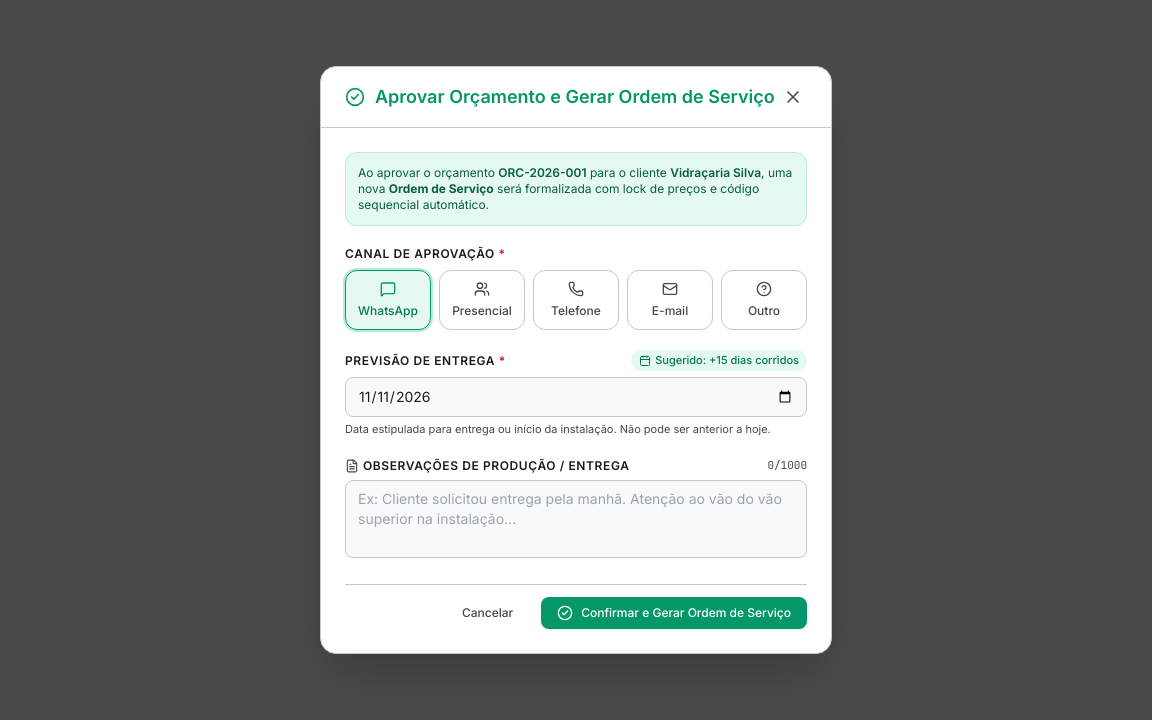
Test: OrderApprovalModal — [US-13.3] Modal de Aprovação e Conversão › deve exibir mensagem de erro se a data de entrega for apagada
Clear the date field with test id "input-data-entrega" at (576, 397), box [345,377,807,417]
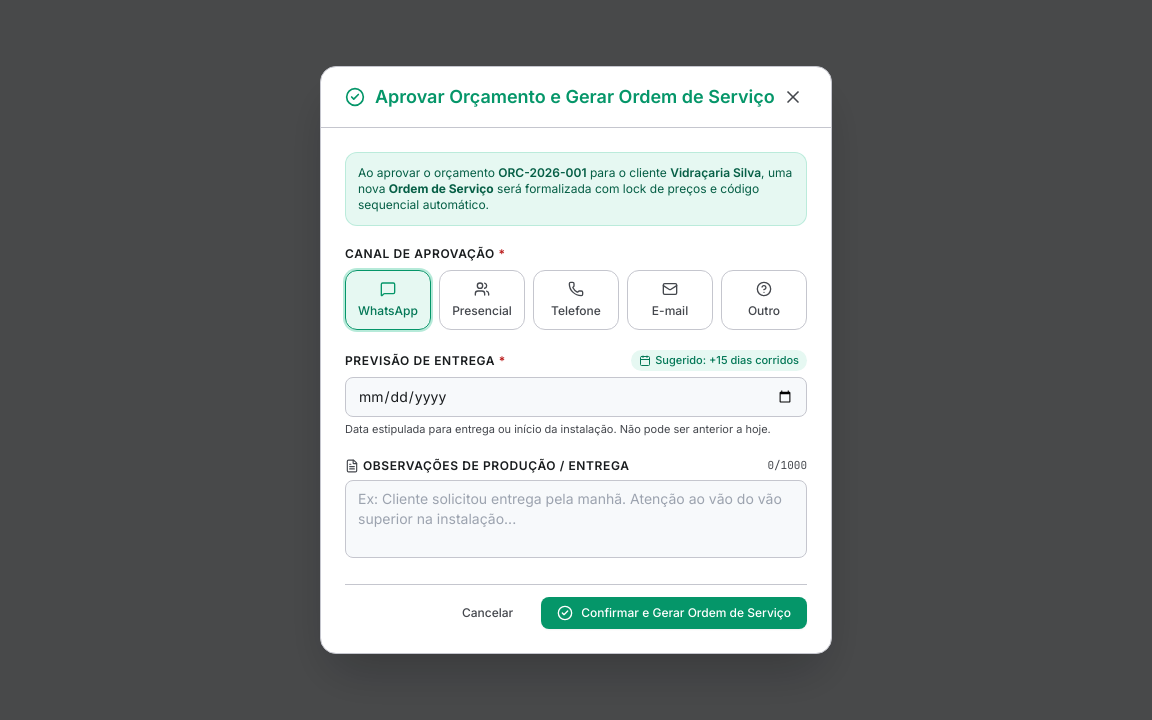
Click the button with test id "btn-confirm-approval".
click(674, 613)  # box [541,597,807,629]
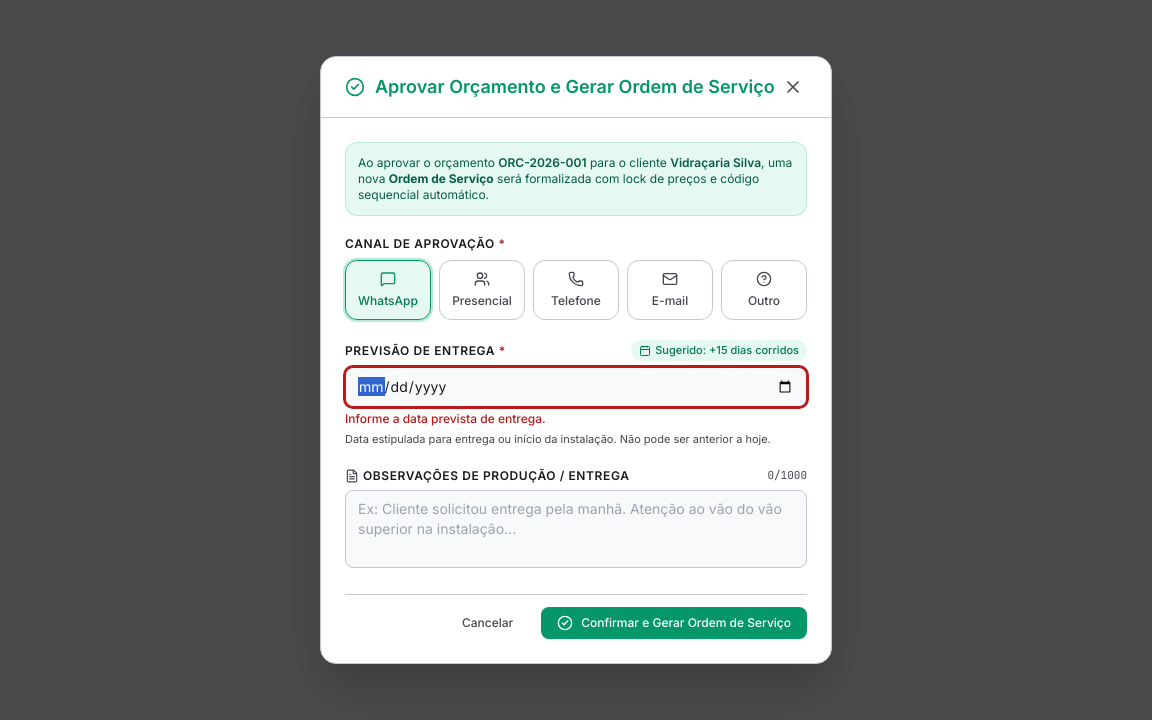
Expected: the text "Informe a data prevista de entrega." is shown, [345,411,546,426]
